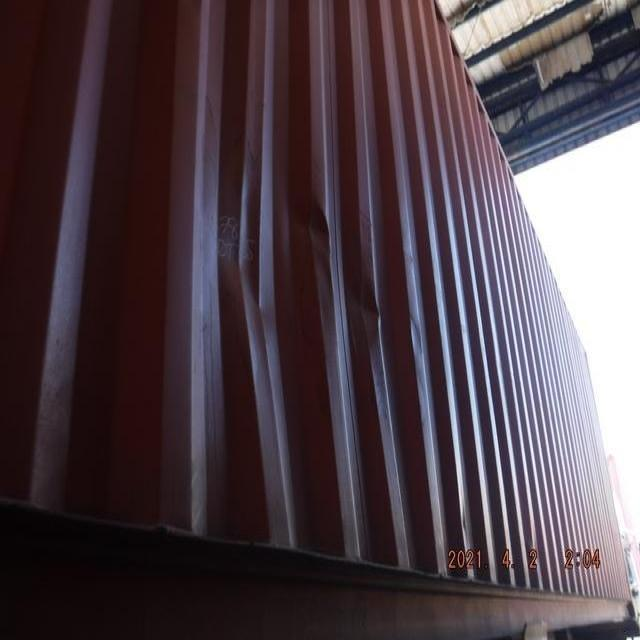dent: (161, 161, 390, 405)
